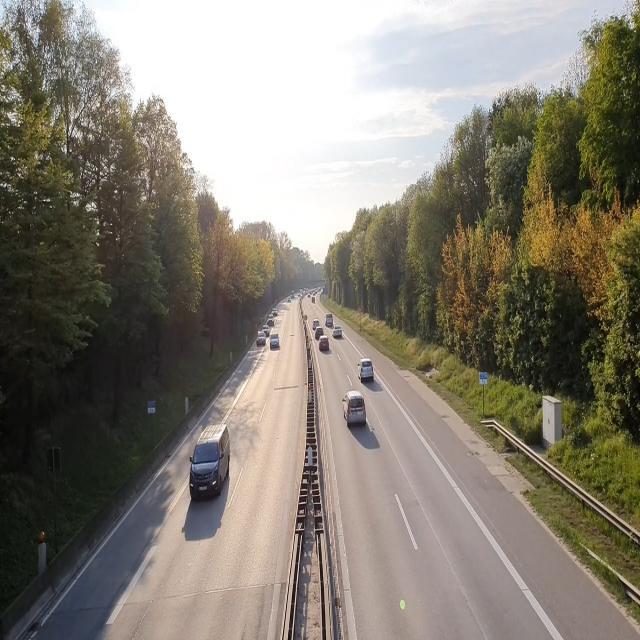Car: (186, 418, 232, 504), (341, 390, 367, 427), (357, 357, 374, 382), (268, 329, 281, 350), (319, 335, 330, 354), (255, 329, 266, 347), (324, 311, 335, 328), (332, 322, 342, 340), (315, 326, 324, 340), (312, 318, 320, 331), (268, 314, 274, 326), (310, 295, 316, 305), (271, 308, 278, 316), (286, 295, 292, 304)
